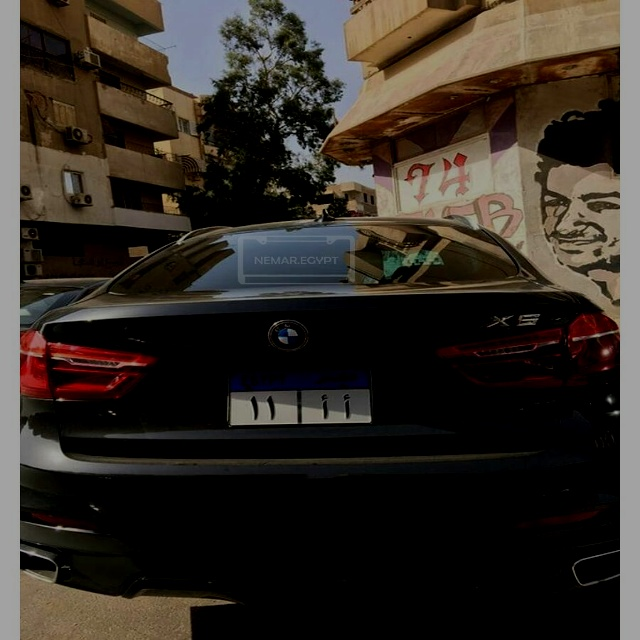License Plate: (223, 364, 376, 430)
